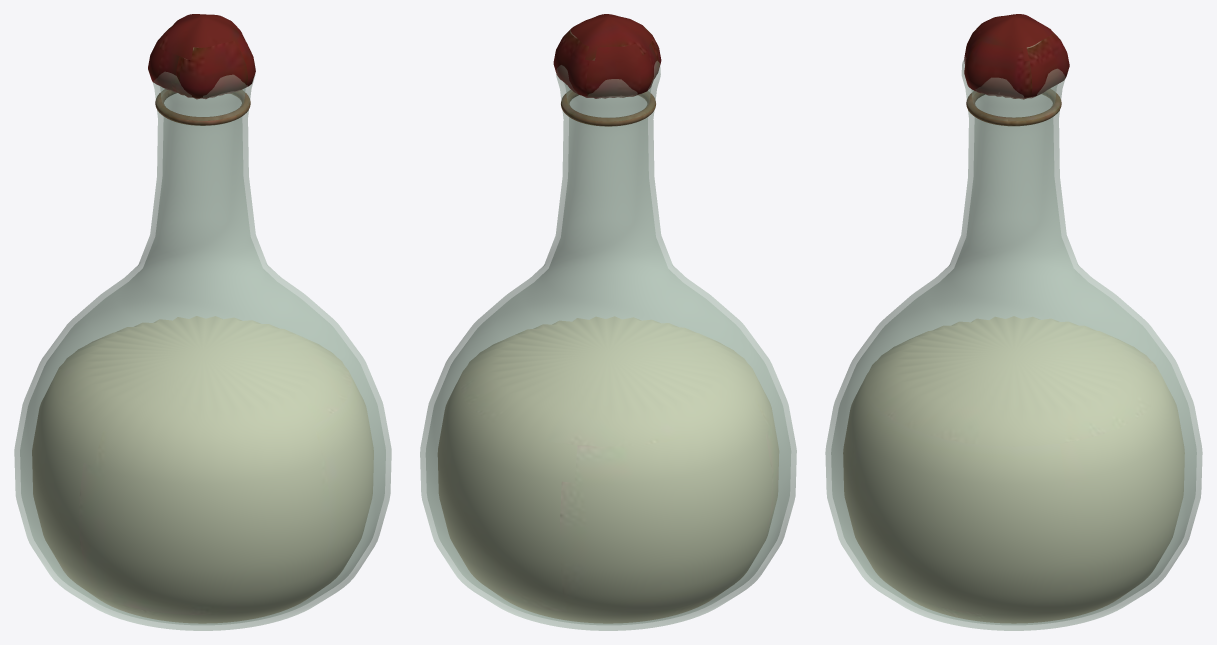
File: lye.glb
3 views of the same model, side by side, from view 1: azimuth 30°, elevation 25°; view 2: azimuth 150°, elevation 25°; view 3: azimuth 270°, elevation 25° (orthographic).
Visible parts, largest first — view 1: glass, lye; view 2: glass, lye; view 3: glass, lye.
Part boxes in pixels (x1=…): glass: x1=14, y1=72, x2=391, y2=630; lye: x1=32, y1=14, x2=373, y2=623; glass: x1=420, y1=61, x2=796, y2=630; lye: x1=437, y1=14, x2=779, y2=623; glass: x1=825, y1=57, x2=1202, y2=630; lye: x1=843, y1=14, x2=1184, y2=623.
Size of the model in its own units: 0.1024 by 0.1737 by 0.1024.
Materials: 2 (1 with a texture image).
